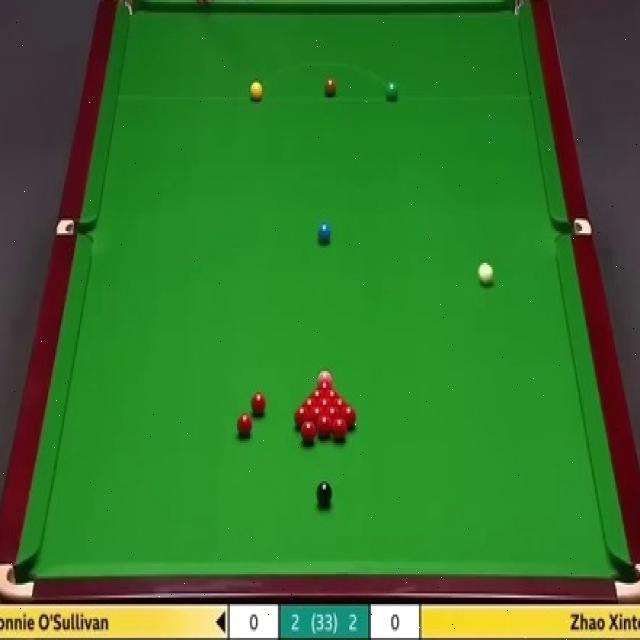black-ball: (316, 478, 332, 508)
blue-ball: (319, 223, 332, 246)
brown-ball: (324, 79, 336, 98)
green-ball: (386, 81, 398, 102)
pink-ball: (317, 367, 333, 384)
red-ball: (250, 390, 270, 417), (300, 422, 317, 446), (316, 414, 332, 439), (332, 415, 349, 438), (294, 405, 310, 428), (340, 406, 358, 426), (236, 413, 252, 435), (309, 405, 325, 422), (326, 406, 340, 424), (302, 400, 316, 416), (323, 390, 342, 400), (332, 398, 349, 409), (317, 398, 333, 409), (316, 380, 334, 389), (307, 390, 324, 399)
white-ball: (477, 259, 495, 286)
yellow-ball: (249, 79, 264, 102)
